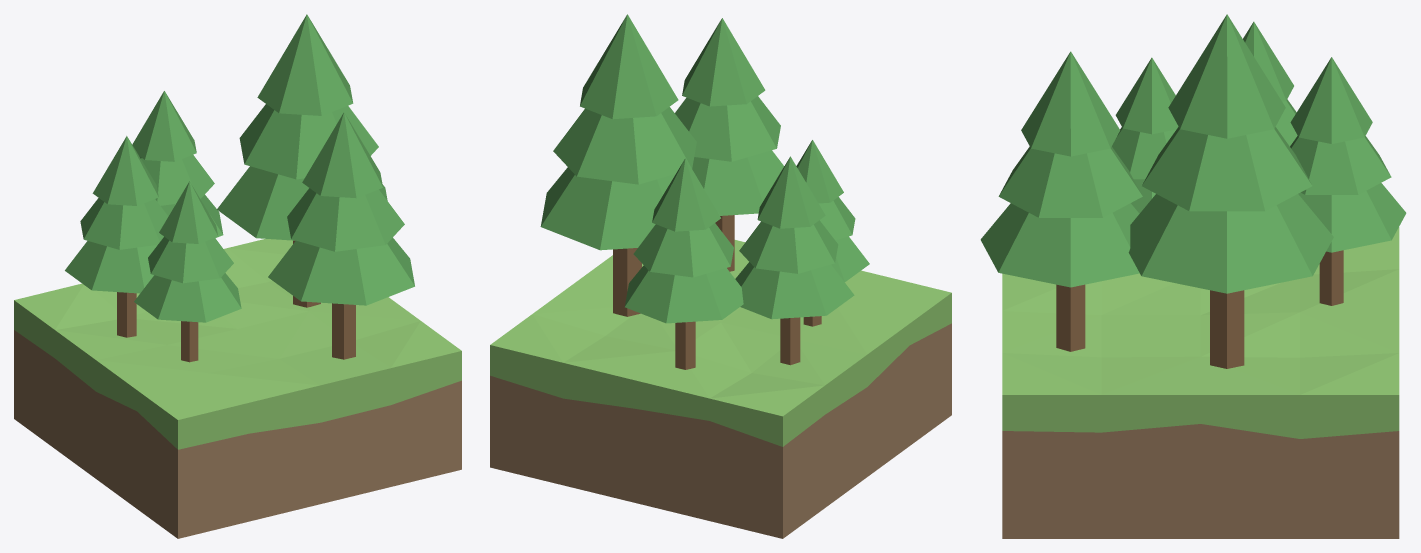
Rendered from GrassTile_Tree5.fbx.
3 views of the same model, side by side, from view 1: azimuth 30°, elevation 25°; view 2: azimuth 150°, elevation 25°; view 3: azimuth 270°, elevation 25° (orthographic). The views are drawn at different scales.
Visible parts, largest first — view 1: GrassTile_Tree5; view 2: GrassTile_Tree5; view 3: GrassTile_Tree5.
Boxes of the visible parts, bbox=[...] form: GrassTile_Tree5: bbox=[14, 14, 461, 538]; GrassTile_Tree5: bbox=[490, 14, 951, 538]; GrassTile_Tree5: bbox=[980, 14, 1406, 538].
Bounding box in the file's own units: 1.06 × 1.36 × 1.07.
